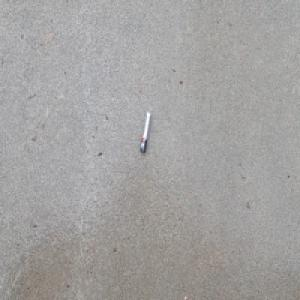Battery: (138, 109, 151, 154)
